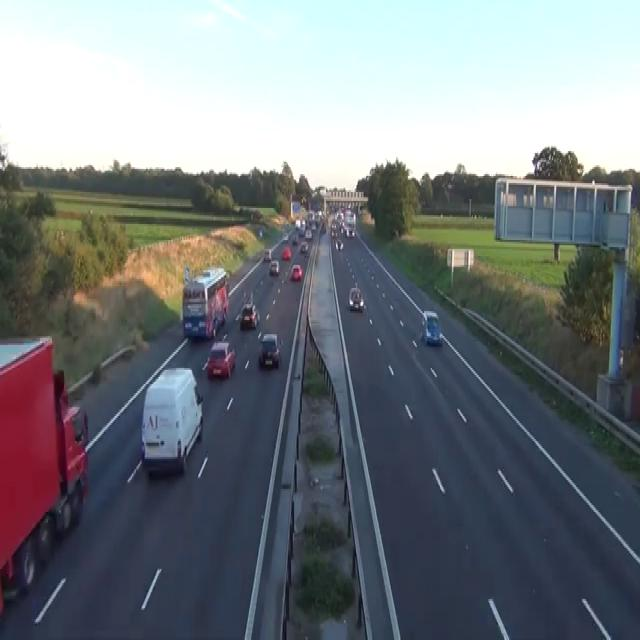Car: (206, 339, 235, 378), (331, 206, 356, 251), (258, 332, 280, 368), (421, 309, 442, 345), (239, 302, 259, 329), (348, 286, 364, 311), (290, 263, 302, 281), (54, 228, 67, 242), (269, 260, 279, 276), (281, 246, 291, 260), (335, 238, 343, 251), (264, 247, 271, 261), (300, 240, 308, 252), (345, 226, 354, 236), (224, 277, 229, 295), (304, 228, 312, 238), (298, 224, 305, 235), (329, 202, 336, 212), (310, 220, 316, 230), (331, 226, 337, 236), (292, 234, 298, 243), (295, 218, 300, 228), (321, 224, 326, 233), (301, 196, 306, 204), (283, 233, 288, 240), (259, 228, 262, 236)
Truck: (0, 334, 89, 615), (140, 366, 203, 475), (181, 265, 229, 339)
